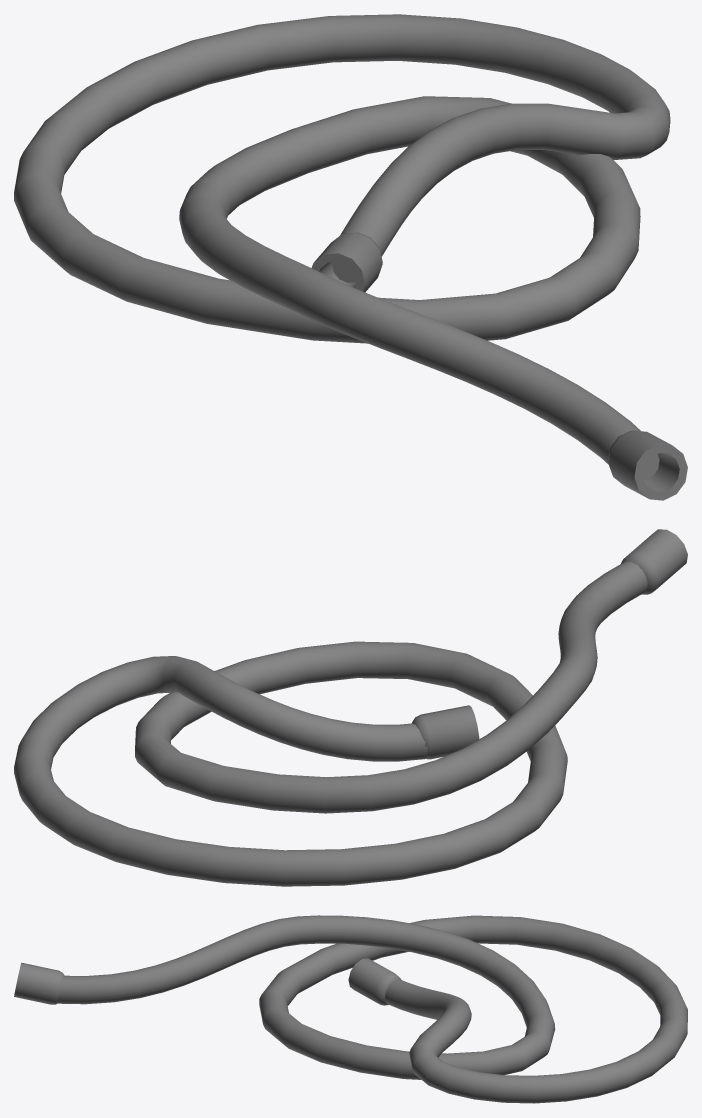
Rendered from q-scifi-mod-prop-cable-1.glb.
3 views of the same model, one above another, from view 1: azimuth 30°, elevation 25°; view 2: azimuth 150°, elevation 25°; view 3: azimuth 270°, elevation 25° (orthographic). The views are drawn at different scales.
Parts seen in each view (by area): view 1: Prop_Cable_1; view 2: Prop_Cable_1; view 3: Prop_Cable_1.
Part boxes in pixels (x1=…): Prop_Cable_1: x1=14, y1=14, x2=687, y2=500; Prop_Cable_1: x1=14, y1=529, x2=687, y2=886; Prop_Cable_1: x1=14, y1=915, x2=687, y2=1103.
Bounding box in the file's own units: 1.02 × 0.1482 × 1.65.
Materials: 2 (2 with a texture image).
